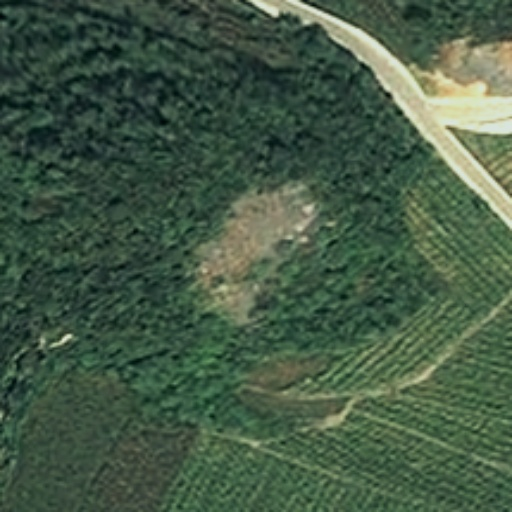landslide: (202, 186, 306, 323)
